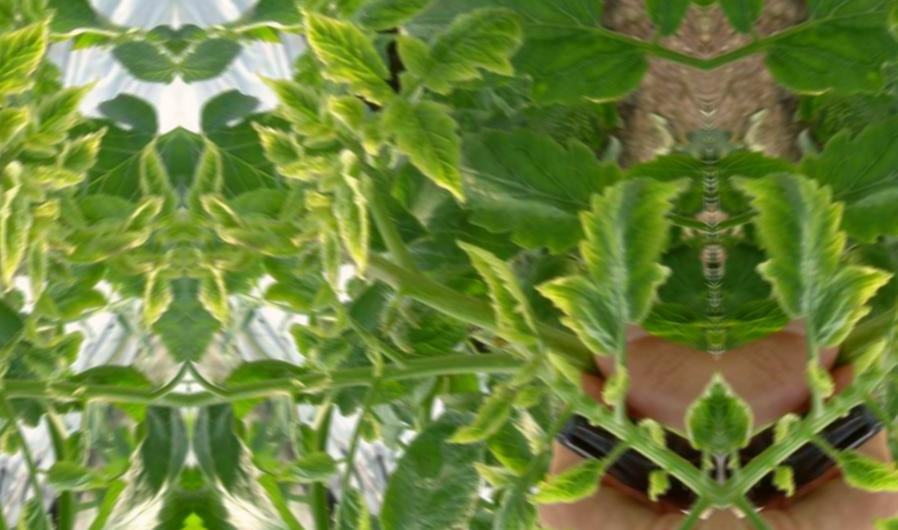Tomato leaf yellow virus: (539, 149, 702, 365), (448, 229, 568, 390), (380, 84, 471, 213), (407, 6, 532, 95), (303, 6, 393, 103), (478, 436, 554, 530), (327, 164, 384, 287), (679, 363, 721, 460), (188, 261, 243, 335), (544, 529, 689, 530)
